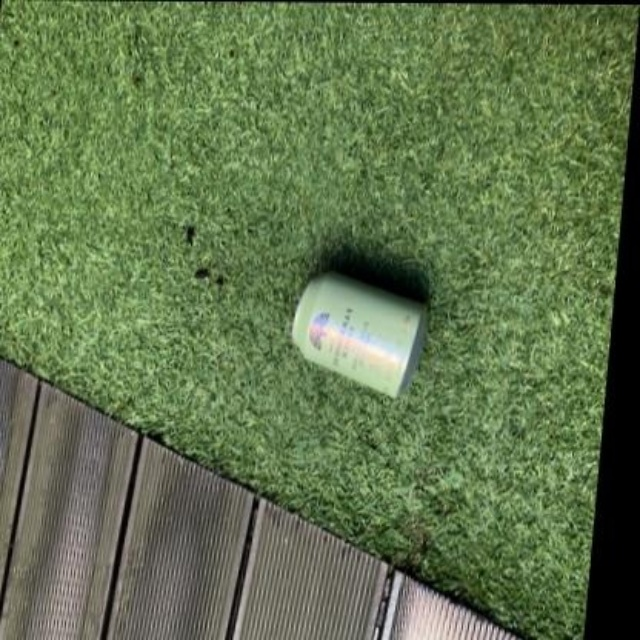trash: (292, 272, 425, 395)
